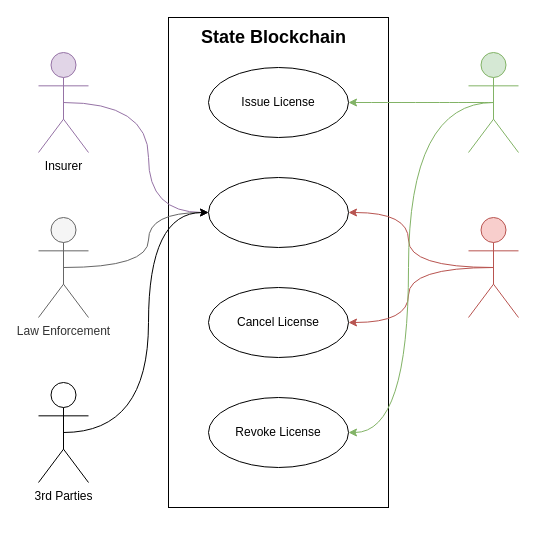
Image size: 540x533. Some labels were removed from this diagram. The box of each missing label's shape, as (x1, y1, x2, y2) in pixels:
Owner: (468, 216, 518, 318)
State DMV: (468, 52, 518, 152)
View License: (208, 176, 348, 248)
